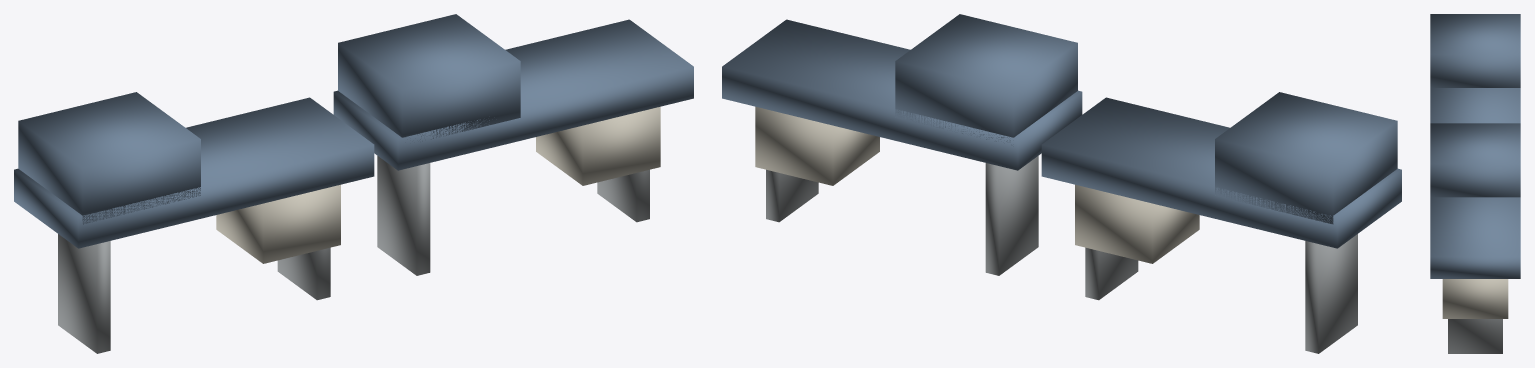
File: exam_table__cluster.glb
The picture shows the model from 3 angles, left to right: view 1: azimuth 30°, elevation 25°; view 2: azimuth 150°, elevation 25°; view 3: azimuth 270°, elevation 25°; orthographic projection. The views are drawn at different scales.
Visible parts, largest first — view 1: world; view 2: world; view 3: world.
Boxes of the visible parts, x1,y1,x2,y2 form: world: (14,14,693,353); world: (722,14,1401,353); world: (1430,14,1520,353).
Bounding box in the file's own units: 3.64 × 1.14 × 0.66.
